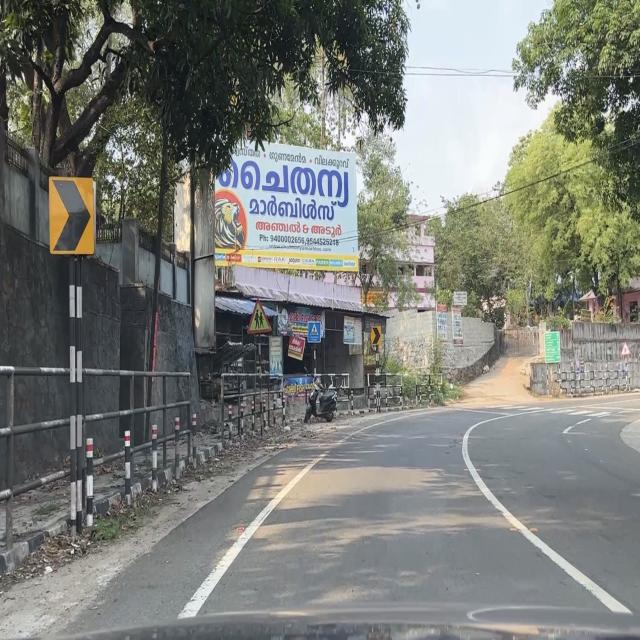GENERAL: (544, 331, 561, 364)
PEDESTRIAN_CROSSING: (307, 321, 322, 343)
SCHOOL_AHEAD: (247, 297, 272, 335)
TURN_RIGHT: (48, 175, 95, 256), (371, 326, 381, 346)
